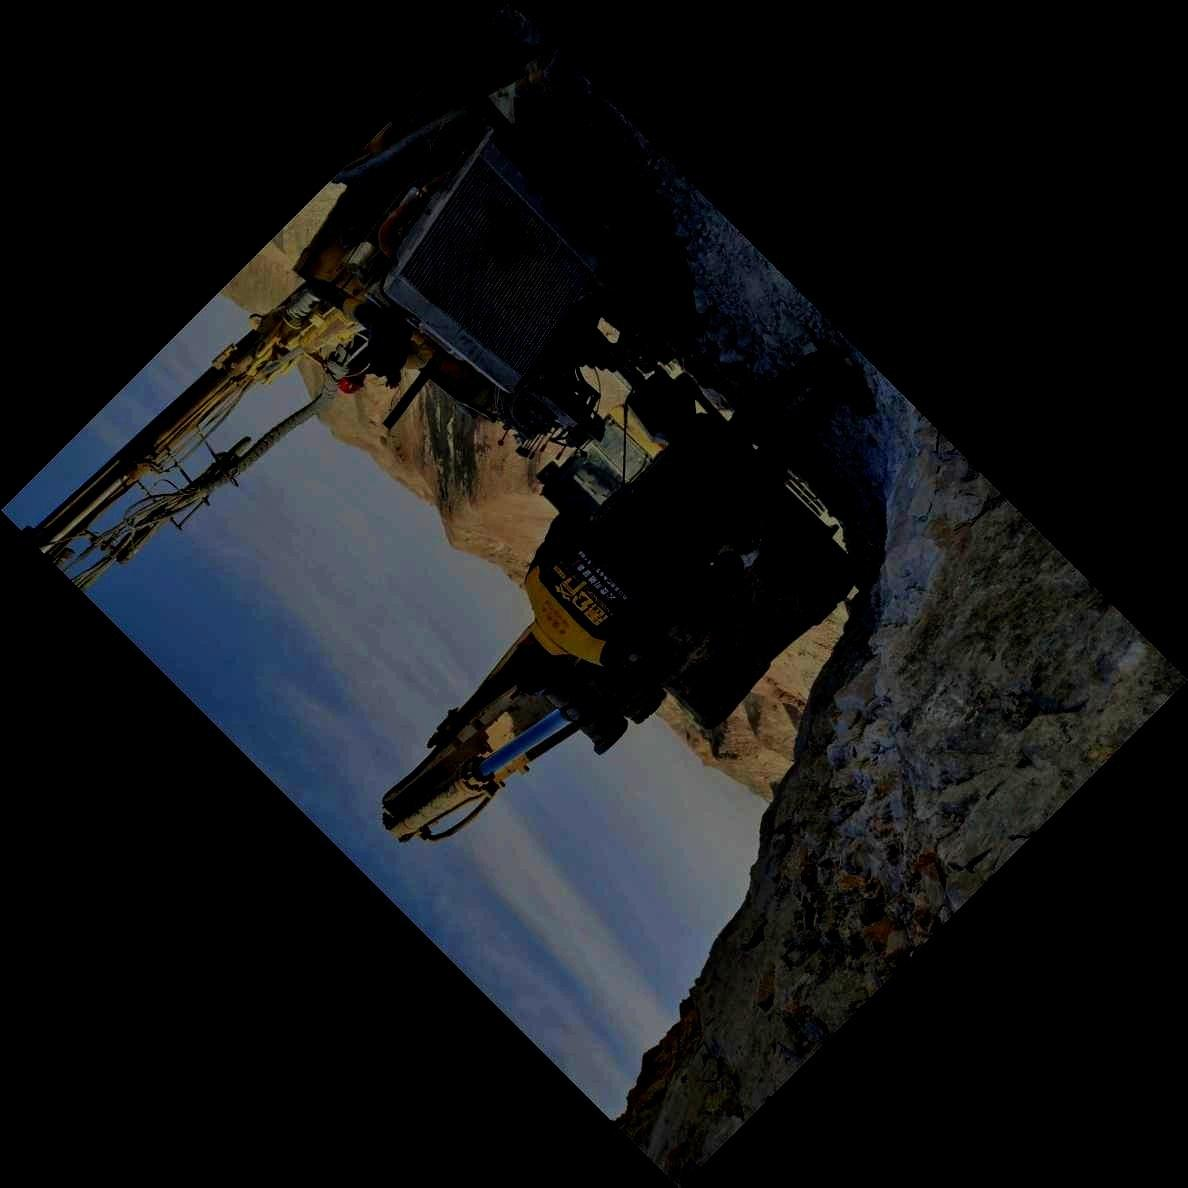helmet: (336, 371, 367, 395)
